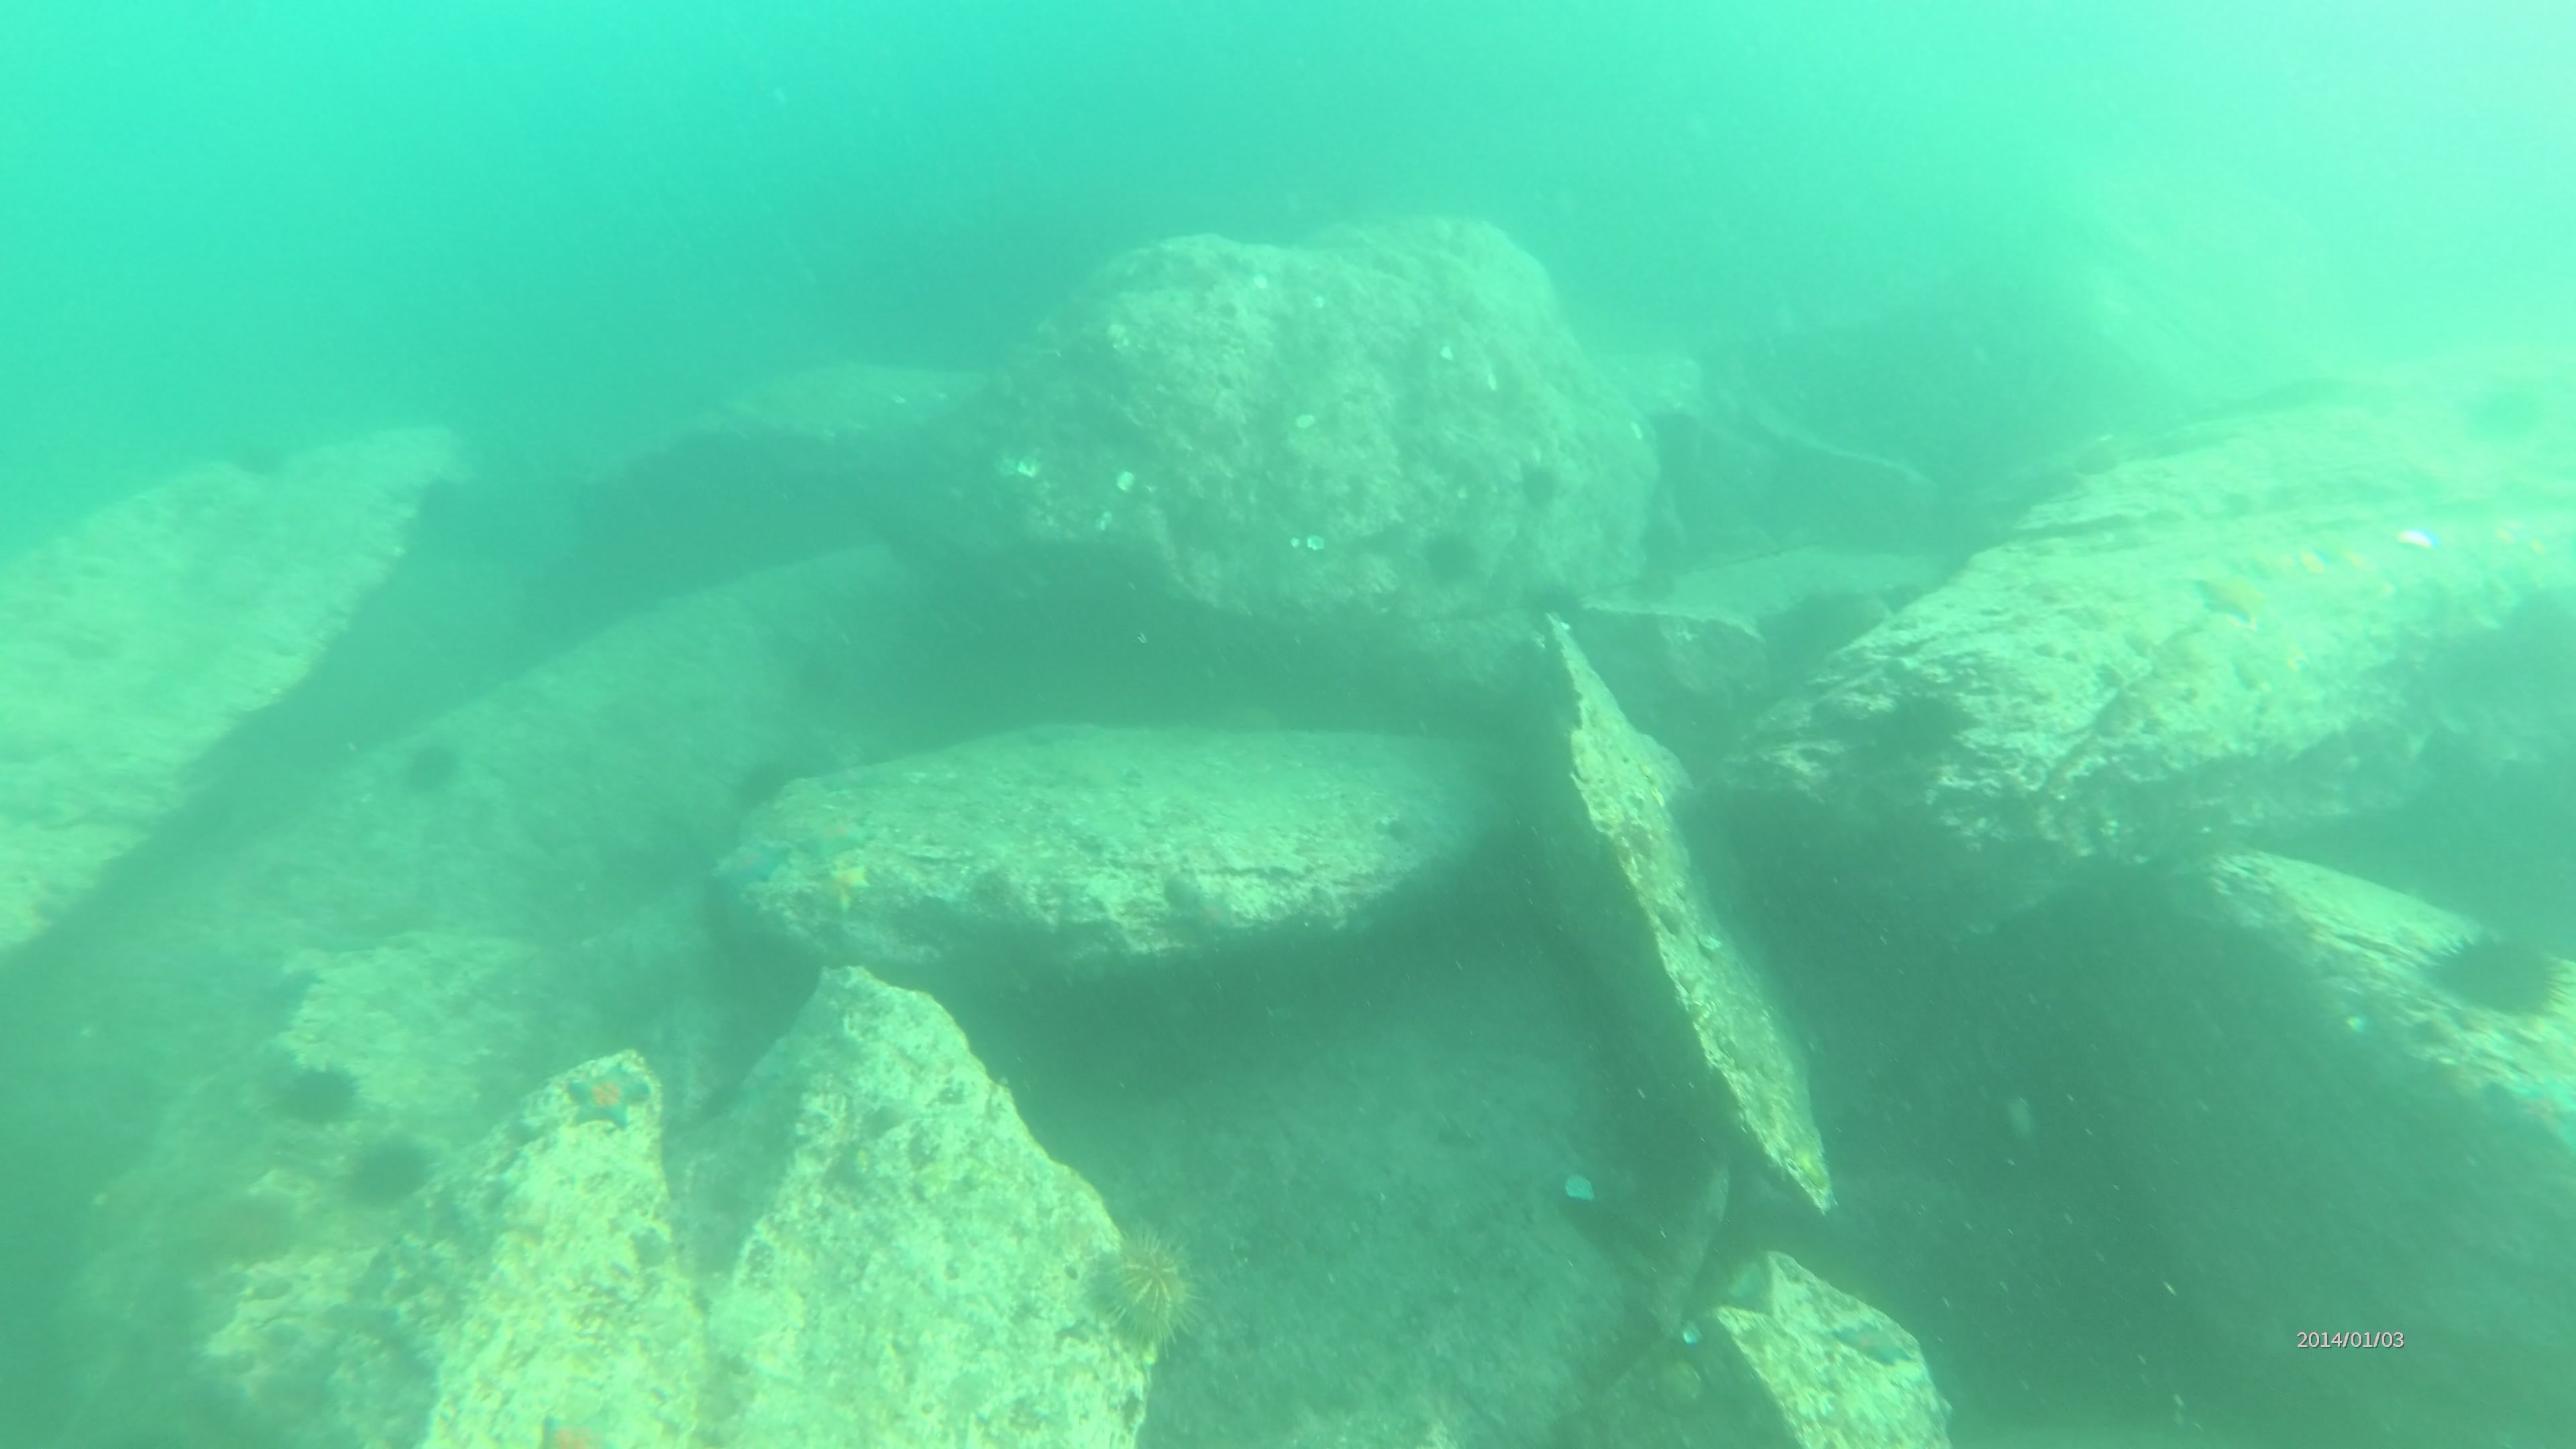echinus: (1085, 1226, 1205, 1343), (2419, 924, 2564, 1019), (333, 1138, 432, 1201), (278, 1060, 361, 1125), (1417, 518, 1483, 591), (414, 738, 462, 794)
starfish: (561, 1056, 660, 1131), (1844, 1311, 1916, 1364), (2199, 566, 2258, 619), (823, 862, 879, 915)
